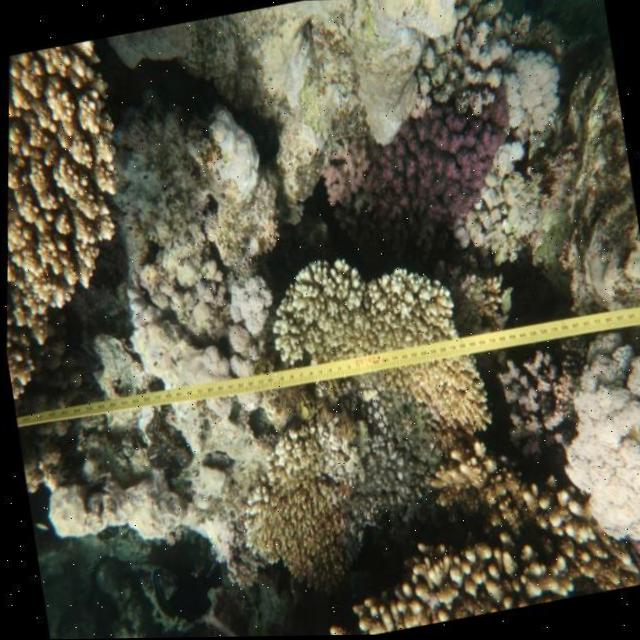Bleached Coral: (553, 311, 640, 551)
Healthy Coral: (6, 0, 135, 413), (315, 477, 640, 636), (351, 86, 533, 236)
